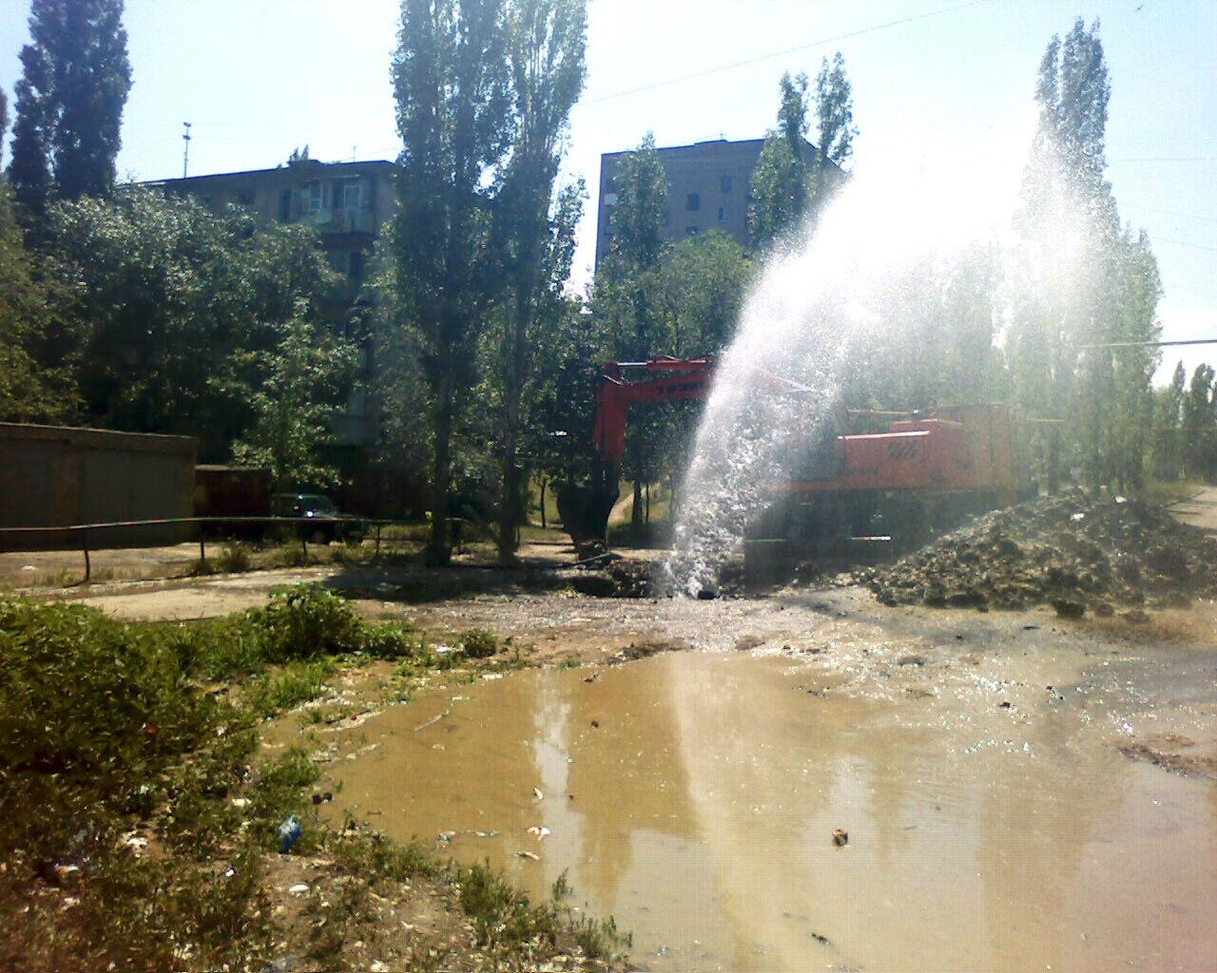pipe burst: (661, 86, 1108, 603)
water accumulation: (238, 641, 1217, 973)
